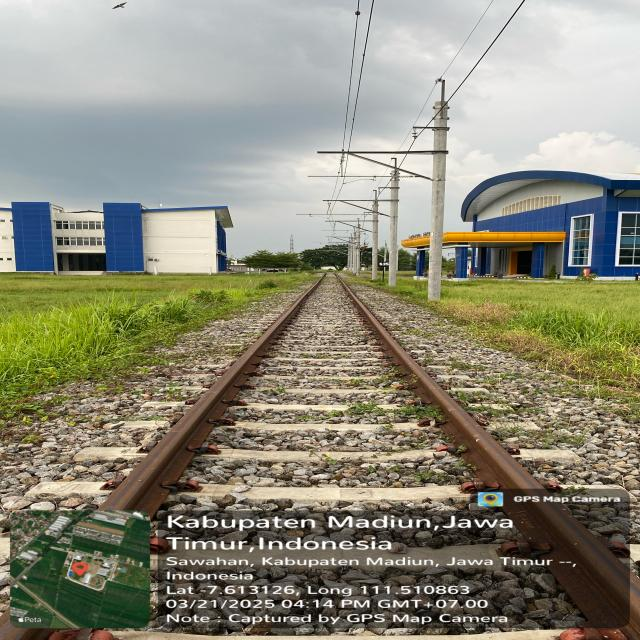rail-detection: (341, 281, 634, 627), (101, 281, 319, 516)
